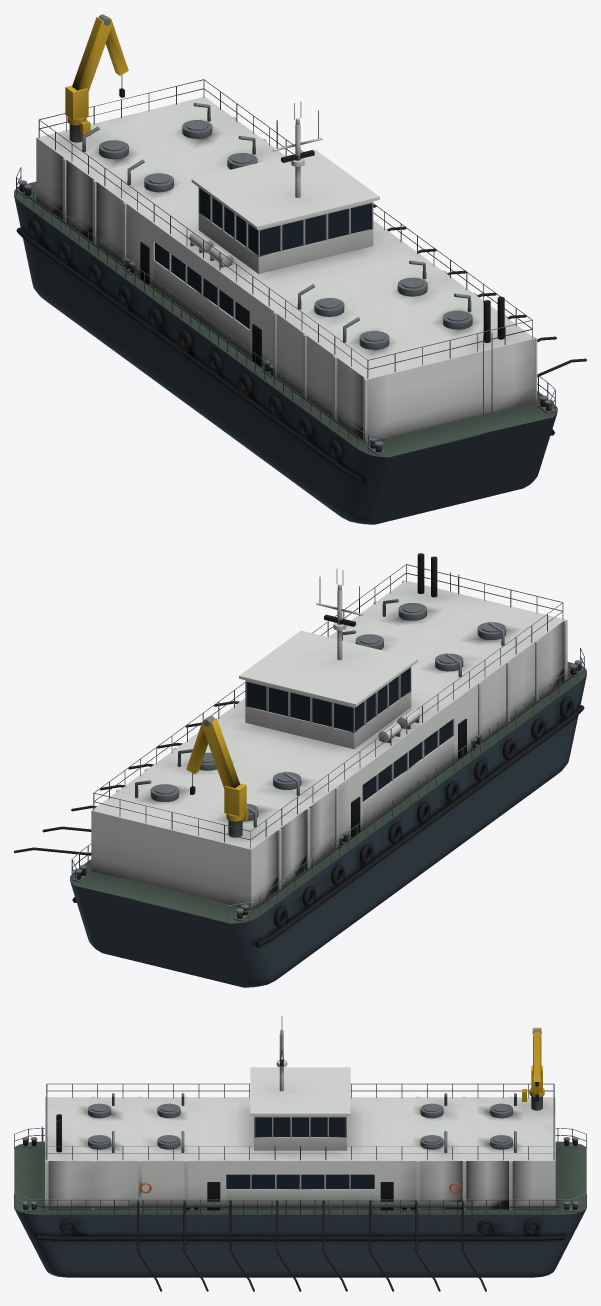
The model's file is feed_barge_LOD0.glb.
The picture shows the model from 3 angles, top to bottom: view 1: azimuth 30°, elevation 25°; view 2: azimuth 150°, elevation 25°; view 3: azimuth 270°, elevation 25°; orthographic projection. The views are drawn at different scales.
Parts seen in each view (by area): view 1: Superstructure, Hull, Machinery, Rubber, Deck, Windows, Crane; view 2: Superstructure, Hull, Machinery, Rubber, Deck, Windows, Crane; view 3: Superstructure, Hull, Machinery, Deck, Rubber, Windows, Crane.
Boxes of the visible parts, x1,y1,x2,y2 form: Superstructure: (36,96,537,443); Hull: (14,196,557,524); Machinery: (16,14,555,456); Rubber: (16,88,586,482); Deck: (14,181,557,457); Windows: (155,188,371,328); Crane: (65,16,128,137); Superstructure: (91,580,567,909); Hull: (70,675,586,987); Machinery: (71,564,584,922); Rubber: (14,553,584,947); Deck: (70,662,586,923); Windows: (246,667,452,801); Crane: (186,717,248,821); Superstructure: (45,1029,555,1210); Hull: (14,1209,586,1277); Machinery: (14,1016,586,1213); Deck: (14,1141,586,1214); Rubber: (37,1035,563,1291); Windows: (226,1117,374,1188); Crane: (522,1027,544,1101).
Bounding box in the file's own units: 18.05 × 16.16 × 37.05.
